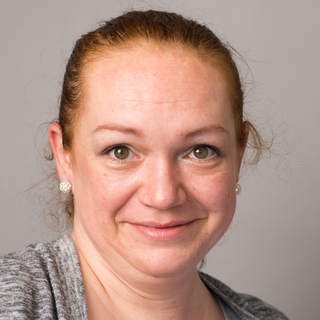eye: (98, 141, 145, 167), (174, 142, 225, 164)
